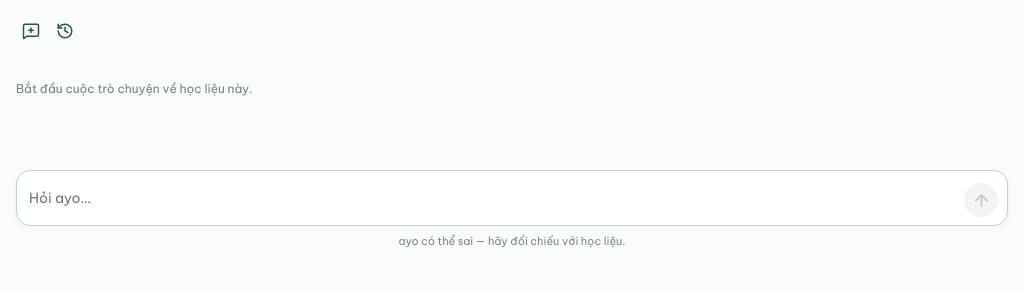
Test case: does not render a late answer into a new chat
The width and height of the screenshot is (1024, 292).
Type "Lượt đang chạy" into the text box named "Câu hỏi cho ayo" at point(492, 198), box [29,182,956,214]
Then press Enter
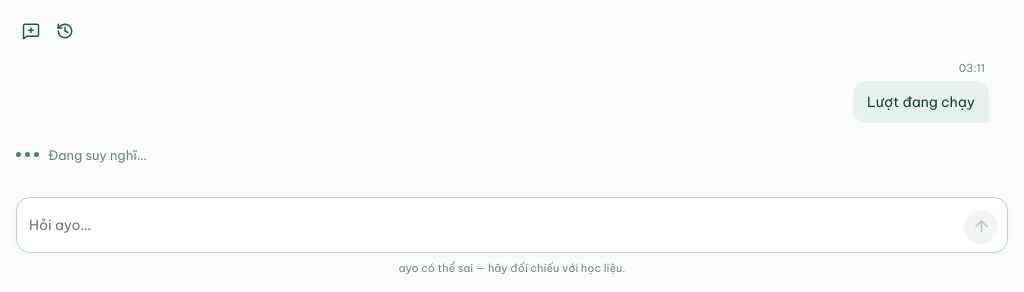
Click the button named "Chat mới" at point(31, 31), box [16,16,46,46]
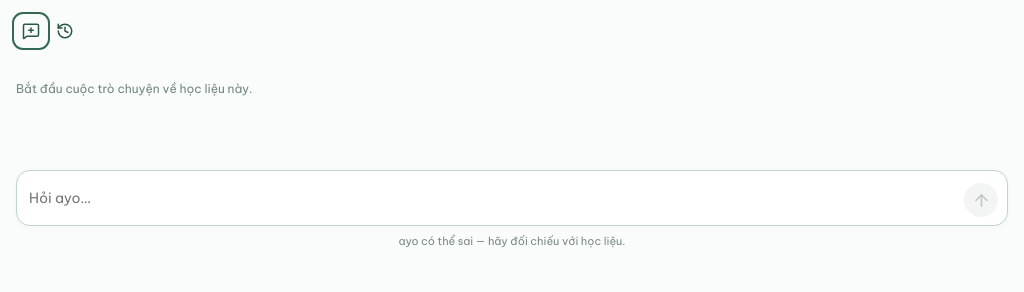
Now the text "Lượt đang chạy" is gone
